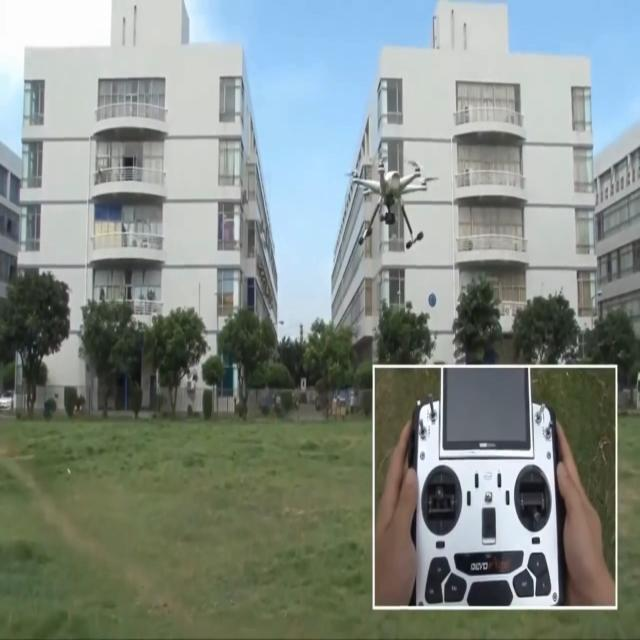drone: (344, 156, 439, 249)
